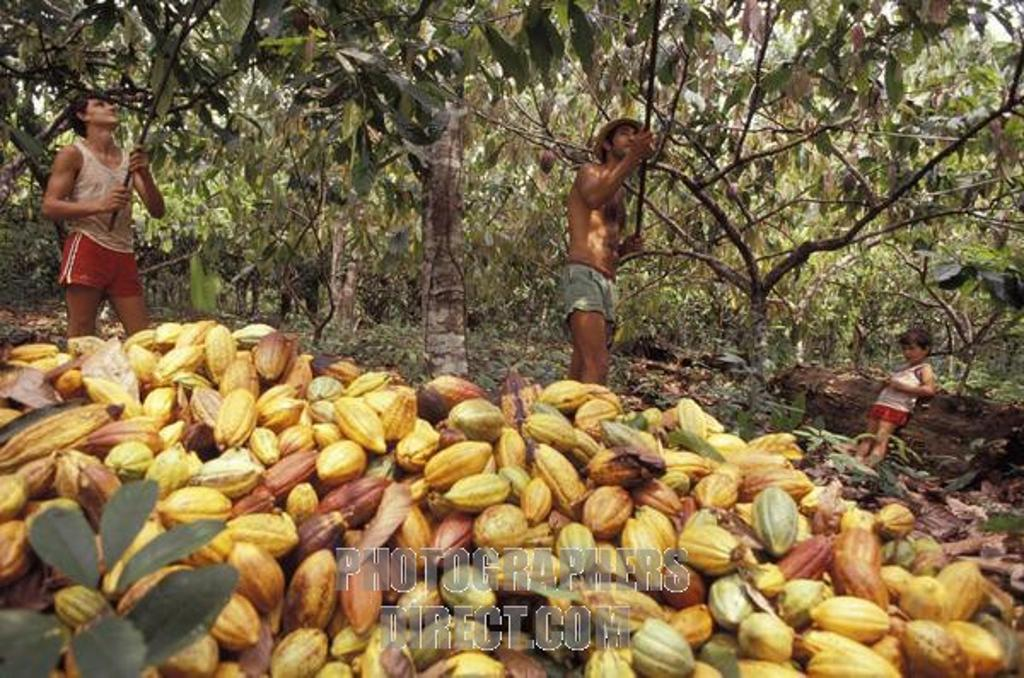face: (612, 125, 641, 153), (87, 99, 117, 123), (901, 343, 921, 363)
